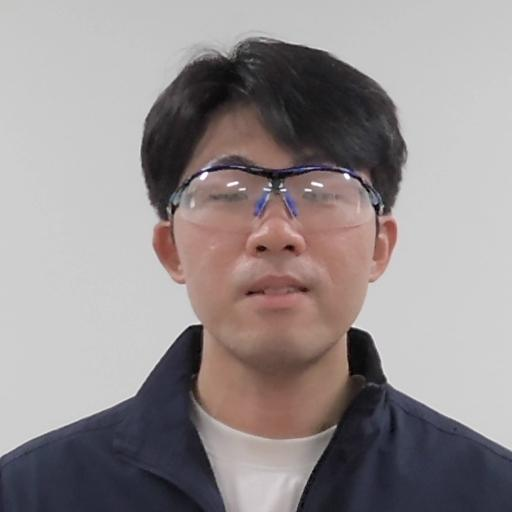glasses: (131, 31, 410, 372)
